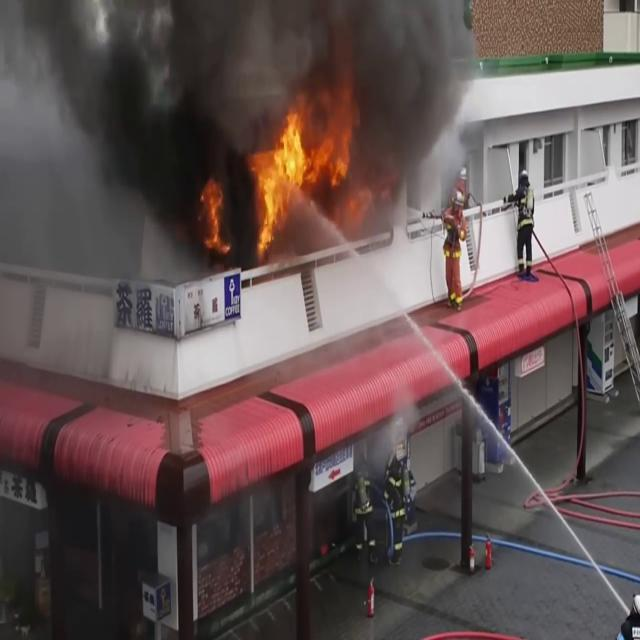Fire: (246, 91, 359, 249), (198, 168, 230, 262)
Smoke: (6, 0, 488, 220)
